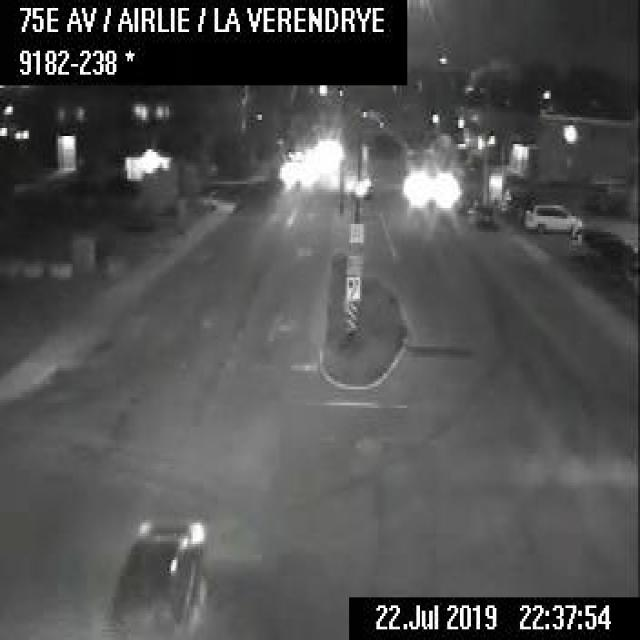vehicle: (102, 512, 210, 637), (521, 199, 580, 232), (472, 203, 493, 228)
